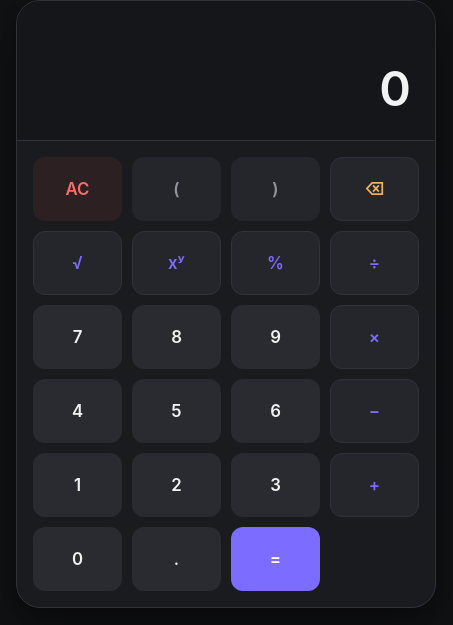
Test: Calculator › builds an expression when numbers are entered
The image size is (453, 625).
Click the button "8".
click(176, 337)  # box [132,305,221,369]
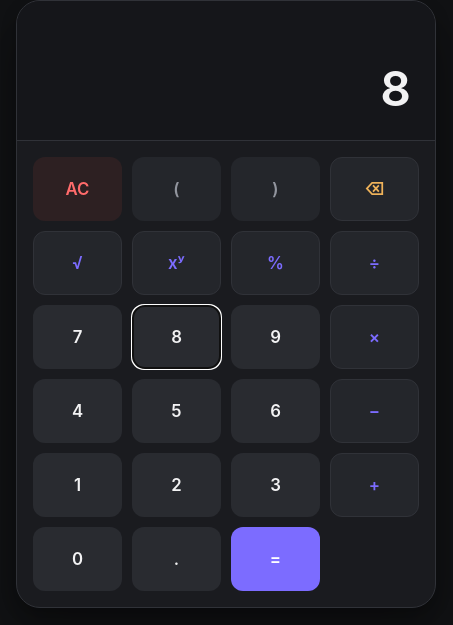
Click the button "5".
click(176, 411)  # box [132,379,221,443]
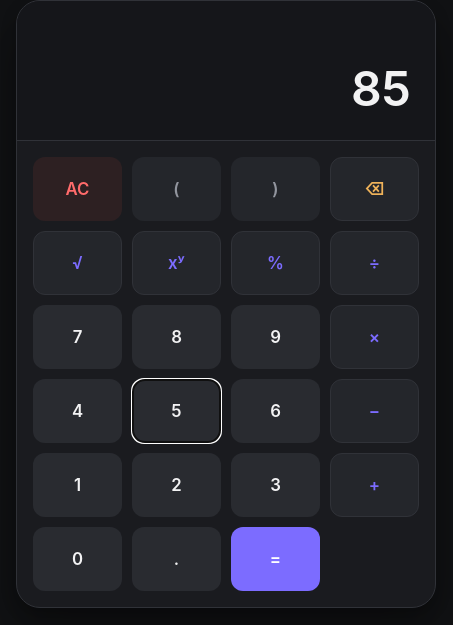
Now the text "85" is shown, box [351,59,411,118]
